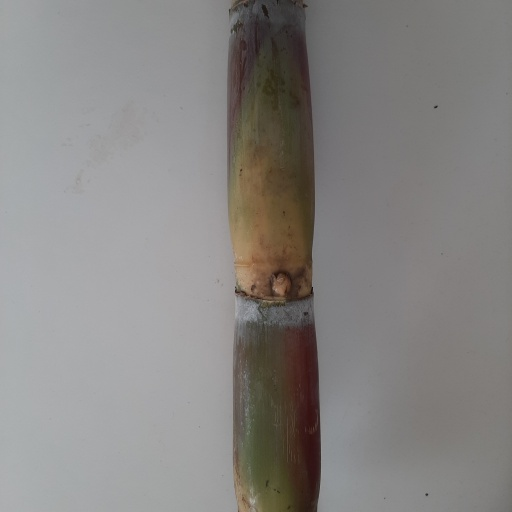Bud: (270, 270, 293, 301)
